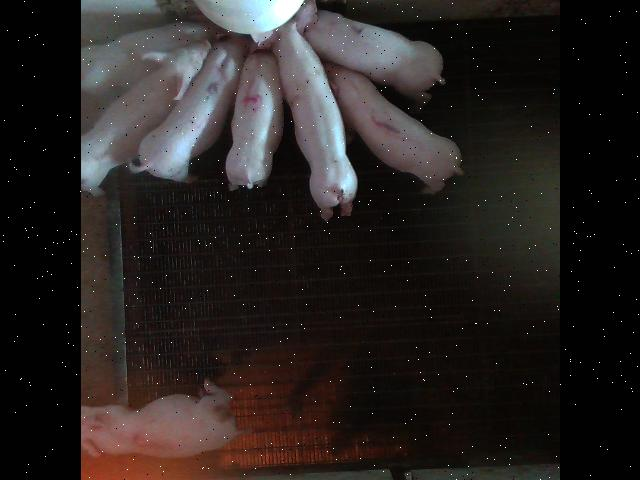pig-1: (324, 63, 462, 194)
pig-3: (82, 379, 241, 458)
pig-4: (225, 51, 282, 191)
